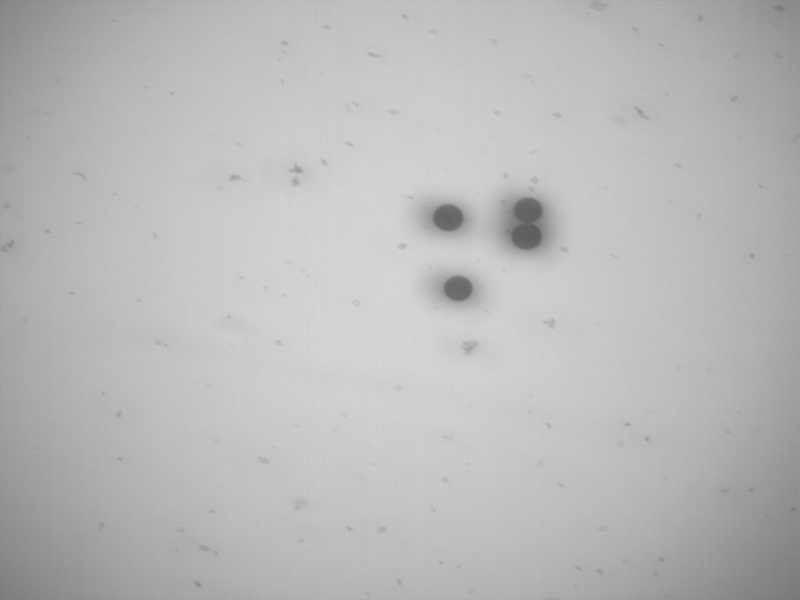bead: (432, 203, 465, 232), (511, 222, 544, 251), (513, 197, 546, 224), (443, 275, 475, 302)
